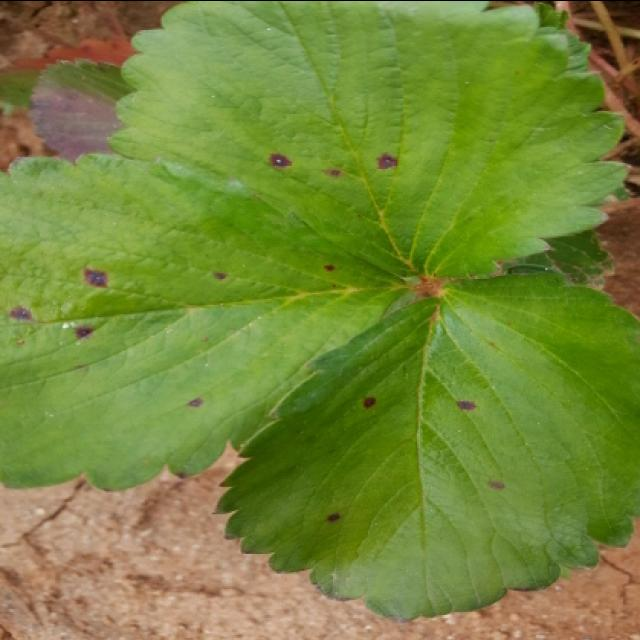Leaf Spot: (213, 262, 638, 622), (104, 0, 630, 281), (0, 151, 413, 494)
